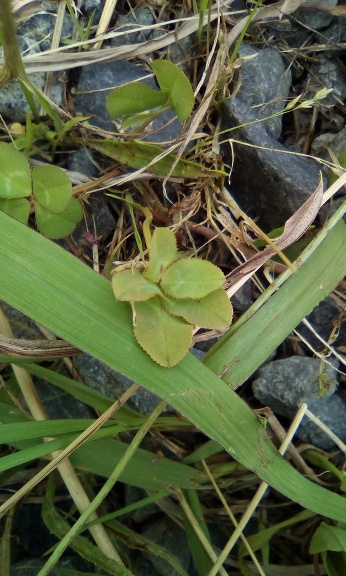4leaf: (109, 225, 234, 370)
